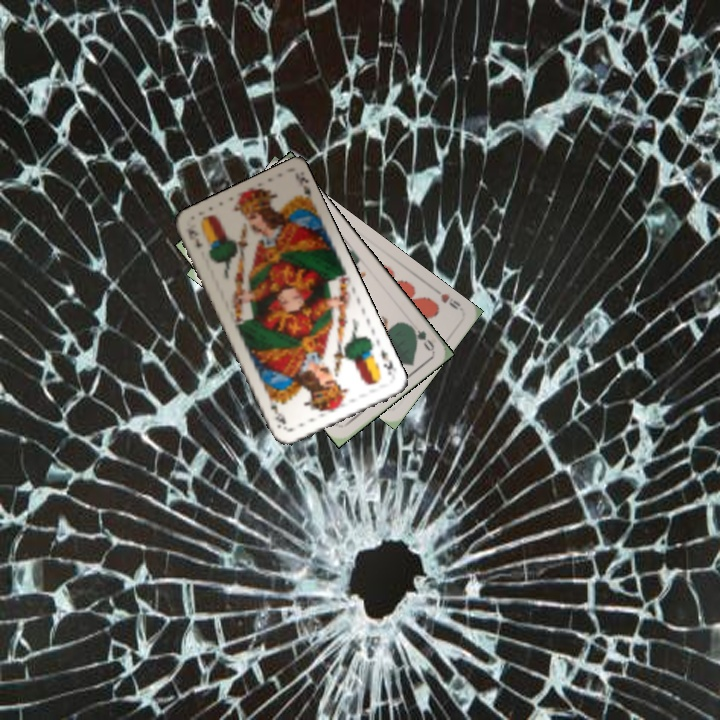EK: (377, 345, 396, 378), (184, 225, 205, 250)
GO: (403, 320, 437, 353)
H9: (429, 284, 463, 312)
